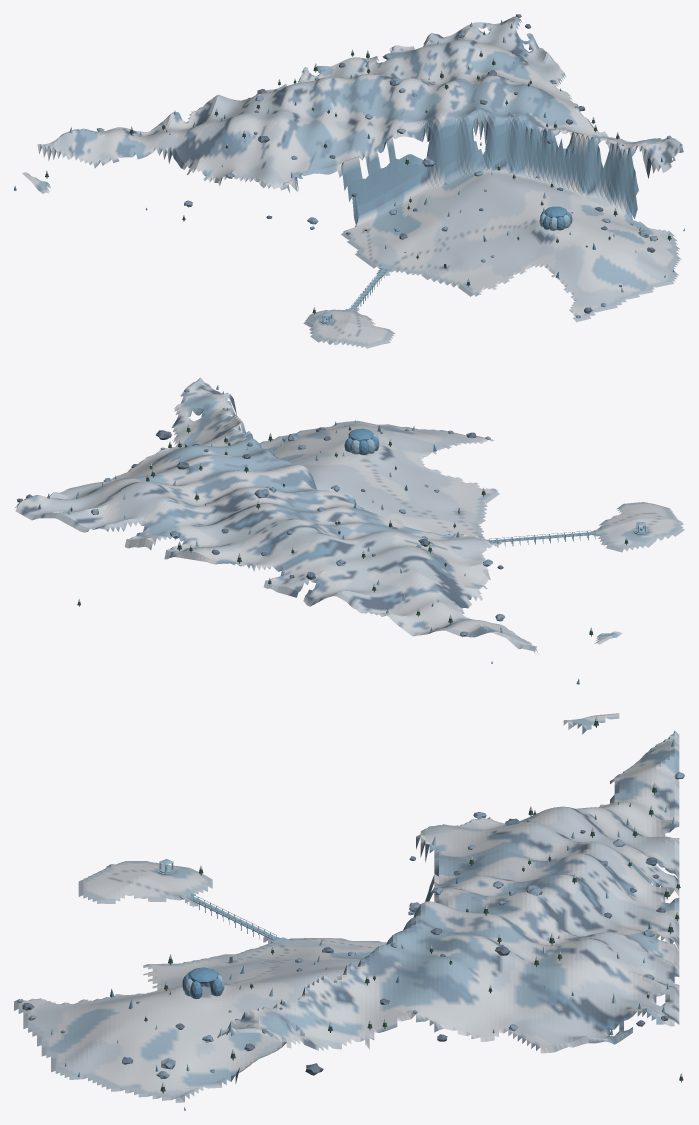
File: frost_isl_frostreach.glb
3 renders of one model, top to bottom at view 1: azimuth 30°, elevation 25°; view 2: azimuth 150°, elevation 25°; view 3: azimuth 270°, elevation 25°, orthographic. The views are drawn at different scales.
Parts seen in each view (by area): view 1: geometry_0; view 2: geometry_0; view 3: geometry_0.
Part boxes in pixels (box(x1,y1,x2,y2)): geometry_0: box(14, 14, 684, 348); geometry_0: box(15, 377, 684, 684); geometry_0: box(14, 713, 684, 1110).
Size of the model in its own units: 344 by 64.41 by 290.
